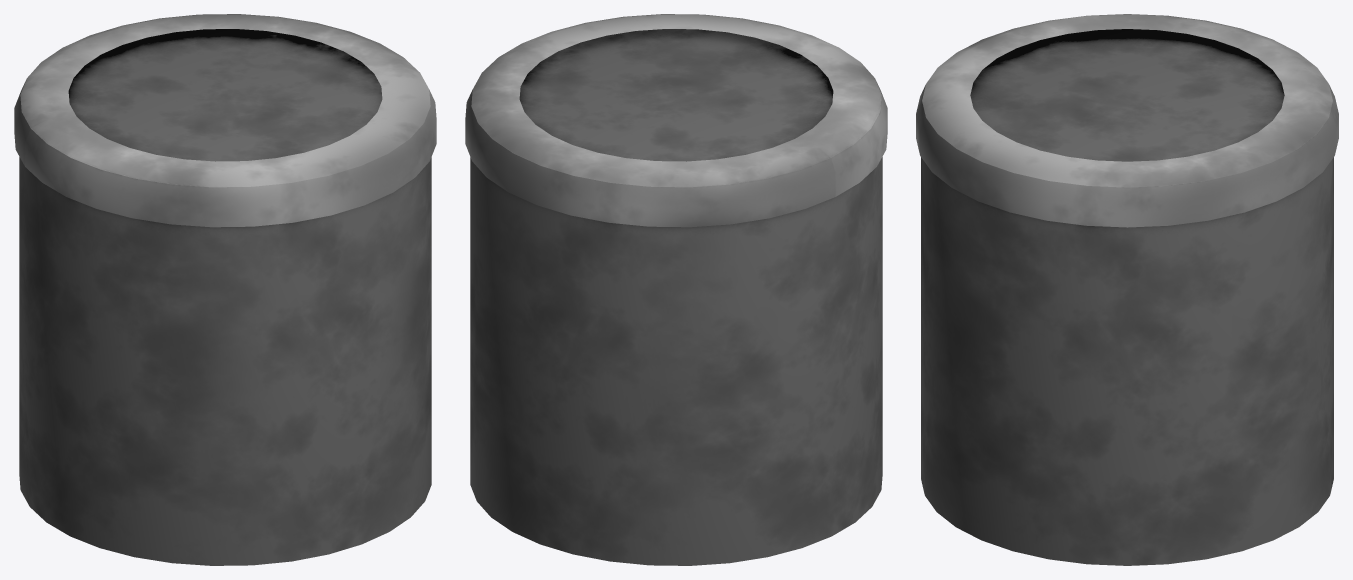
Rendered from Door_Circle.fbx.
3 views of the same model, side by side, from view 1: azimuth 30°, elevation 25°; view 2: azimuth 150°, elevation 25°; view 3: azimuth 270°, elevation 25° (orthographic).
Visible parts, largest first — view 1: Cylinder.018, Cylinder.019; view 2: Cylinder.018, Cylinder.019; view 3: Cylinder.018, Cylinder.019.
Part boxes in pixels (x1=…): Cylinder.018: x1=19, y1=29, x2=431, y2=565; Cylinder.019: x1=14, y1=14, x2=436, y2=227; Cylinder.018: x1=470, y1=29, x2=882, y2=565; Cylinder.019: x1=465, y1=14, x2=887, y2=227; Cylinder.018: x1=921, y1=29, x2=1333, y2=565; Cylinder.019: x1=916, y1=14, x2=1338, y2=227.
Bounding box in the file's own units: 205 × 205 × 205.
Materials: 2 (1 with a texture image).
